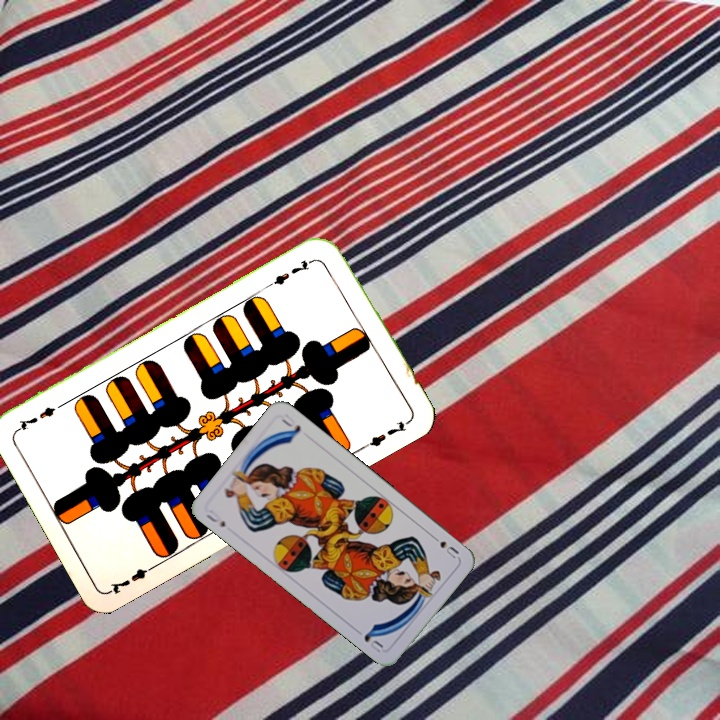E7: (105, 560, 160, 597), (266, 254, 321, 289)
SU: (426, 530, 462, 562), (202, 505, 228, 530)
